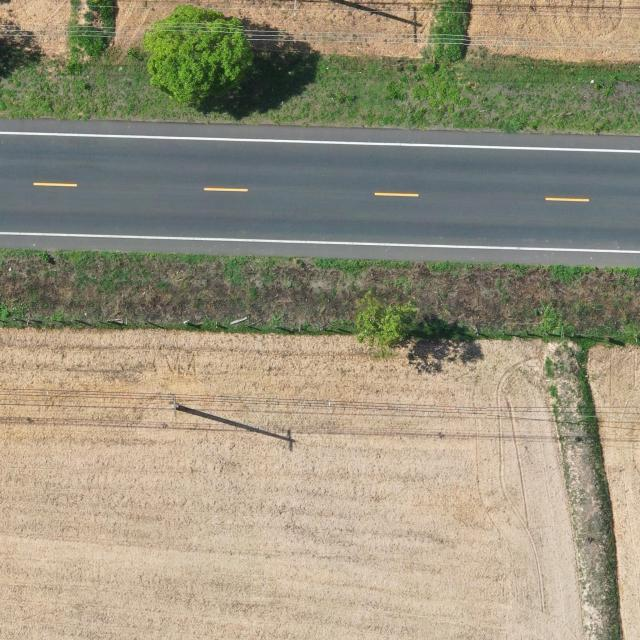Tree: (143, 4, 255, 106), (353, 290, 421, 348)
